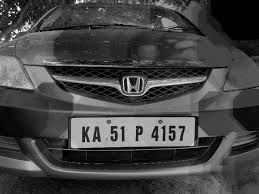numberplate: (68, 115, 198, 148)
